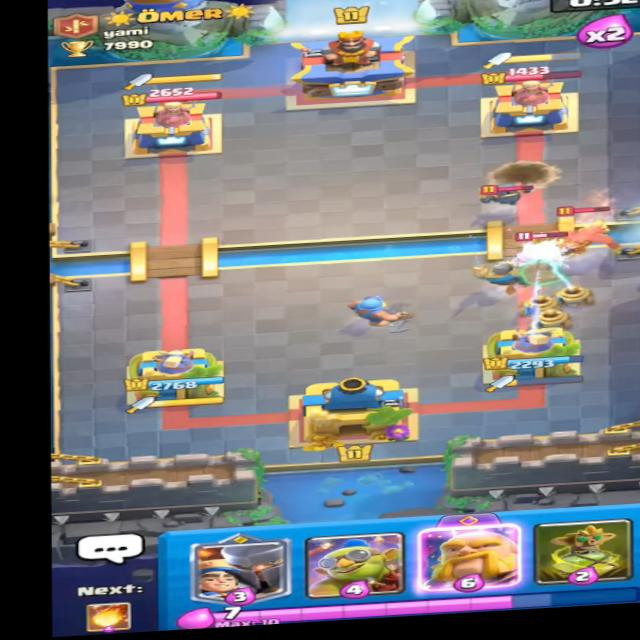mini-pekka: (478, 180, 533, 212)
monk: (506, 225, 575, 279)
monk-ability: (496, 223, 580, 272)
phoenix: (530, 199, 640, 262)
